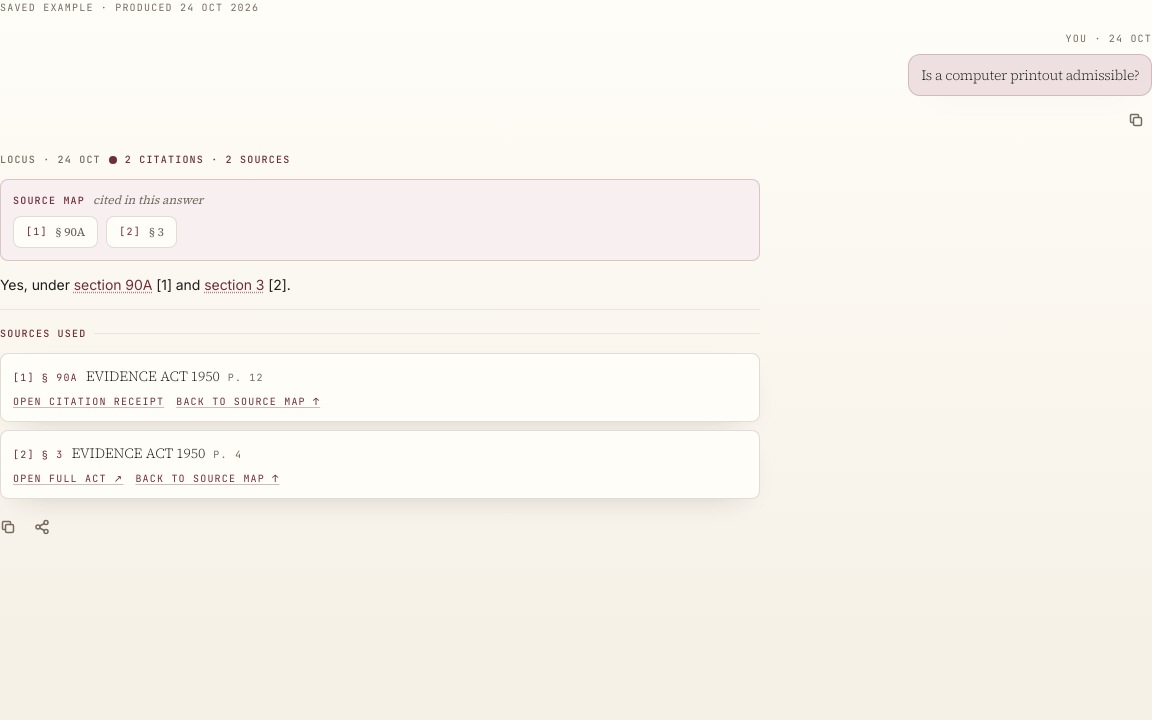
Test case: ExampleAnswer › opens the receipt in a modal dialog and closes it
Click the button with aria-label "Open Citation Receipt 1": (89, 402) [13, 394, 164, 409]
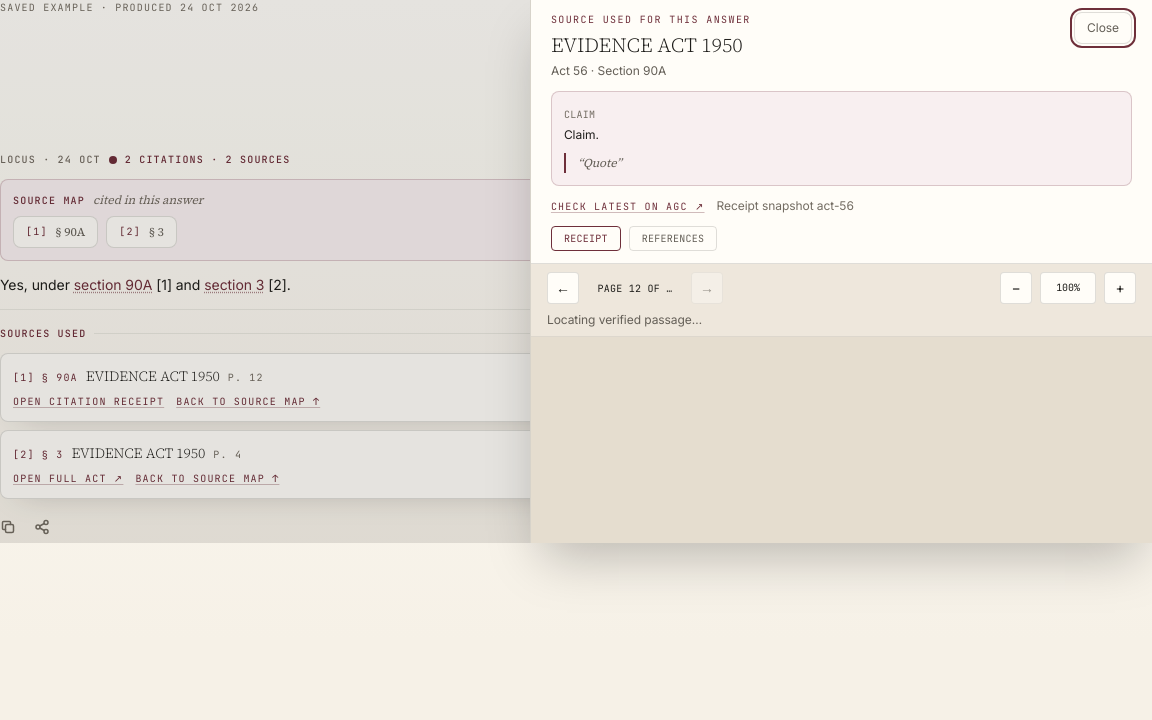
Click the button named "Close Citation Receipt": (69, 272) [0, 0, 1151, 543]
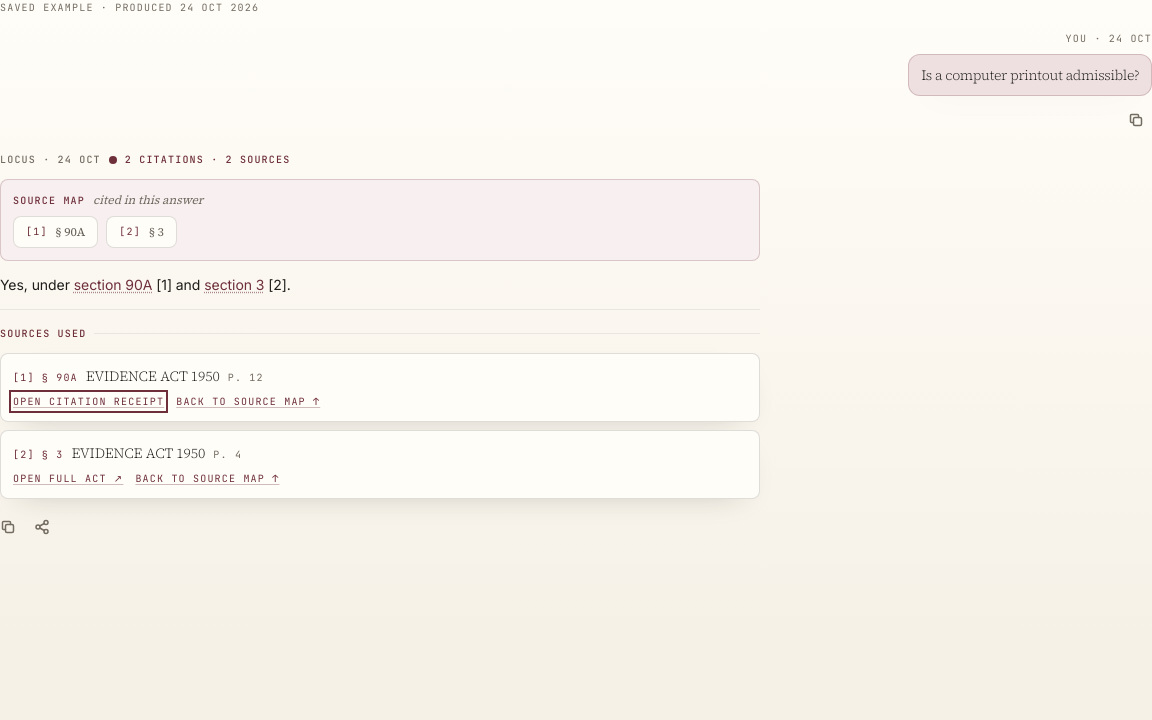
Expected: the dialog is gone
